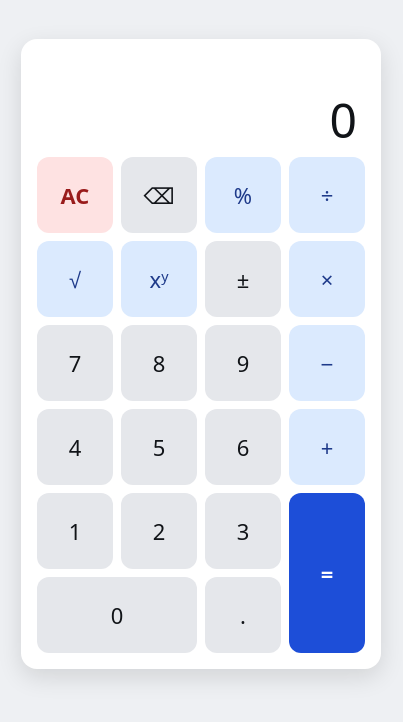
Test case: B.4 requests and system errors › 2 + 3 =, network failure, then = again and the server answers
Click the button "2". click: (159, 531)
box: [121,493,197,569]
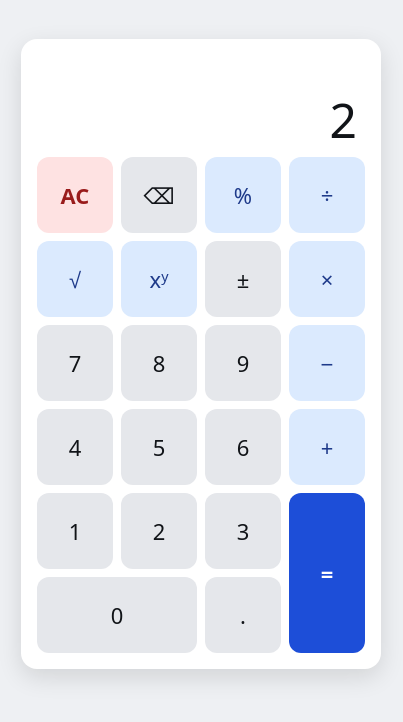
Click the button named "add". click: (327, 447)
box: [289,409,365,485]
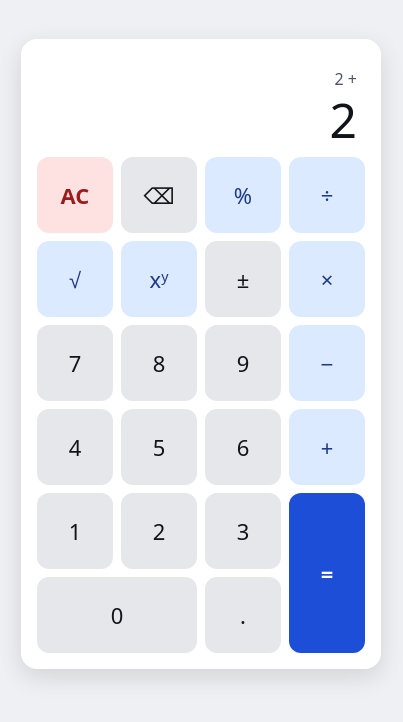
Click the button "3". click: (243, 531)
box: [205,493,281,569]
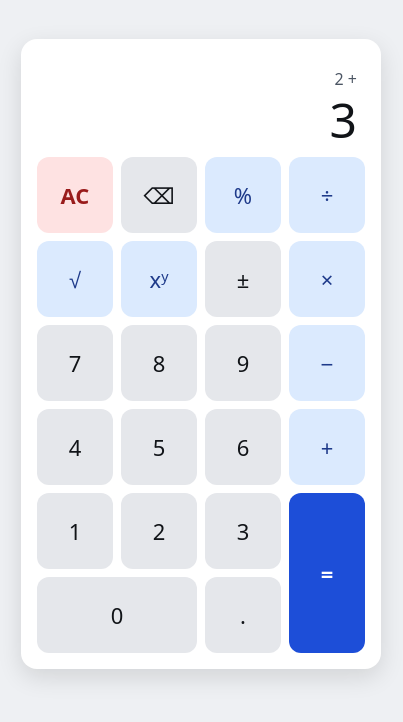
Click the button named "equals". click: (327, 573)
box: [289,493,365,653]
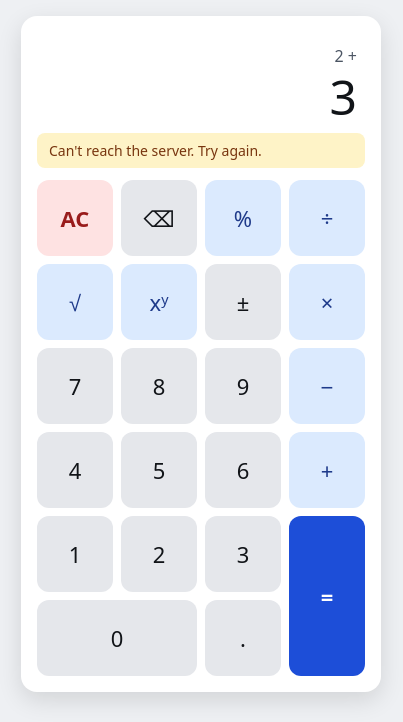
Click the button named "equals". click: (327, 596)
box: [289,516,365,676]
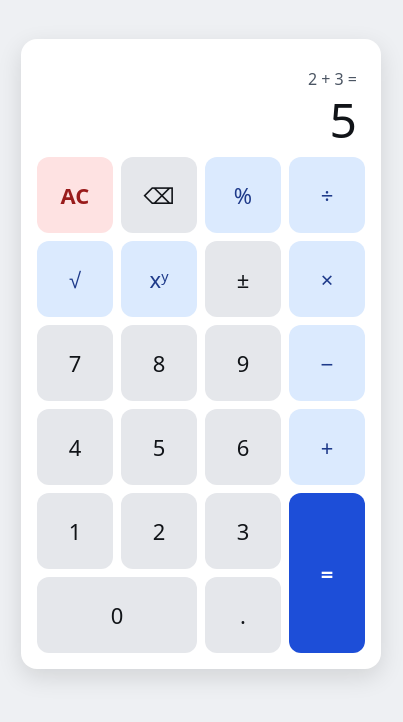
Check: the message "Can't reach the server. Try again." is gone
